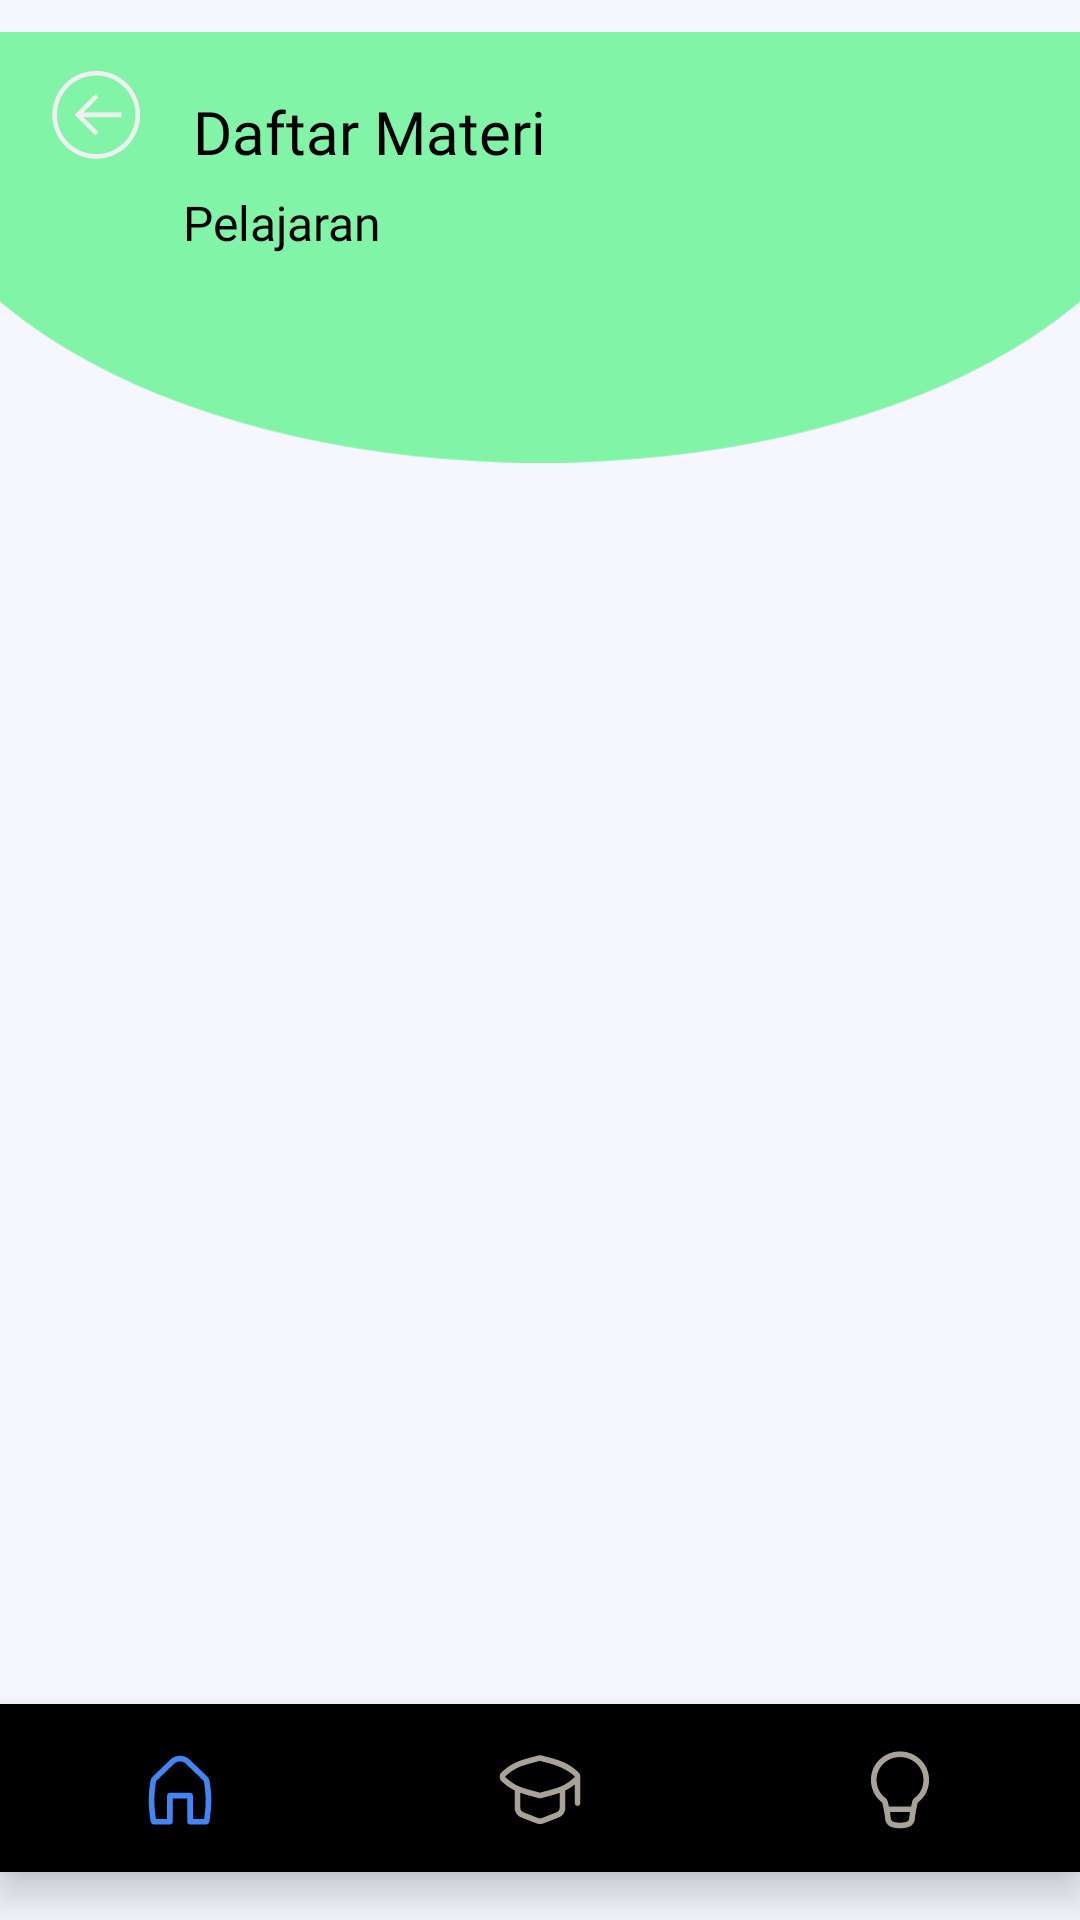

Named icons in this screenshot (1080px x 1920px) and their centers, point (x, y):
back: point (96, 115)
